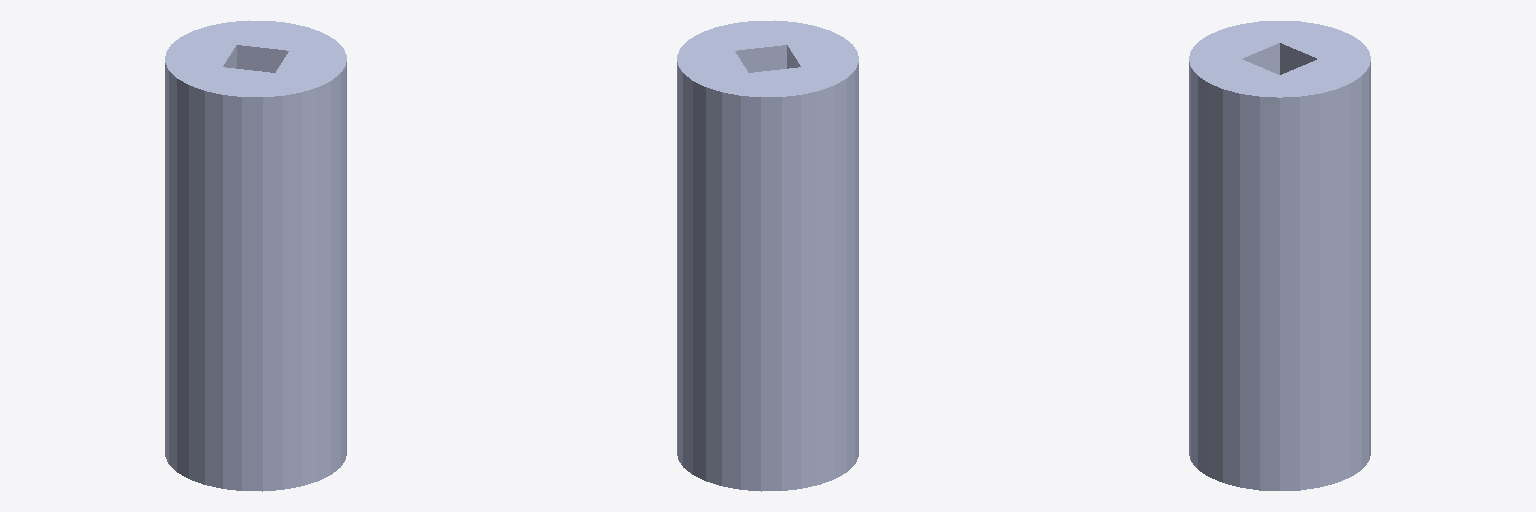
URDF robot description (t2):
<?xml version="1.0" encoding="utf-8"?>
<!-- This URDF was automatically created by SolidWorks to URDF Exporter! Originally created by Stephen Brawner (brawner@gmail.com) 
     Commit Version: 1.6.0-1-g15f4949  Build Version: 1.6.7594.29634
     For more information, please see http://wiki.ros.org/sw_urdf_exporter -->
<robot
  name="t2">
  <link
    name="base_link">
    <inertial>
      <origin
        xyz="0 2.7756E-17 0.057124"
        rpy="0 0 0" />
      <mass
        value="0.071758" />
      <inertia
        ixx="7.7553E-05"
        ixy="3.068E-21"
        ixz="1.0874E-20"
        iyy="7.7553E-05"
        iyz="1.5483E-20"
        izz="2.2345E-05" />
    </inertial>
    <visual>
      <origin
        xyz="0 0 0"
        rpy="0 0 0" />
      <geometry>
        <mesh
          filename="package://t2/meshes/base_link.STL" />
      </geometry>
      <material
        name="">
        <color
          rgba="0.79216 0.81961 0.93333 1" />
      </material>
    </visual>
    <collision>
      <origin
        xyz="0 0 0"
        rpy="0 0 0" />
      <geometry>
        <mesh
          filename="package://t2/meshes/base_link.STL" />
      </geometry>
    </collision>
  </link>
</robot>

--- Facts derived from the render (not from the file) ---
Views: 3 orthographic renders of the robot side by side, from view 1: azimuth 30°, elevation 25°; view 2: azimuth 150°, elevation 25°; view 3: azimuth 270°, elevation 25°.
Model t2 with 1 links and 0 joints (none), rooted at base_link, posed every joint at zero.
Links seen in each view (by area): view 1: base_link; view 2: base_link; view 3: base_link.
Link boxes in pixels (box(x1,y1,x2,y2)): base_link: box(165, 20, 346, 491); base_link: box(677, 20, 858, 491); base_link: box(1189, 21, 1370, 490).
Bounding box of the posed robot: 0.042 × 0.042 × 0.1 m (x, y, z).
1 mesh visuals loaded from 1 distinct referenced files (1 binary STL).
